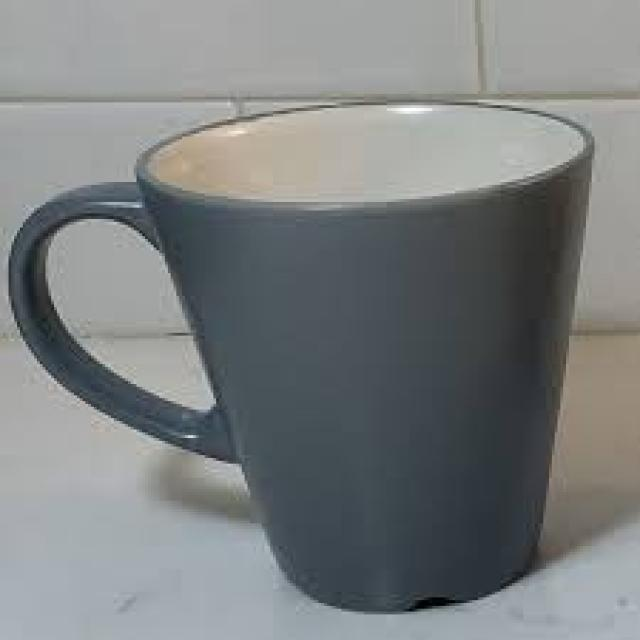taza: (8, 99, 596, 616)
